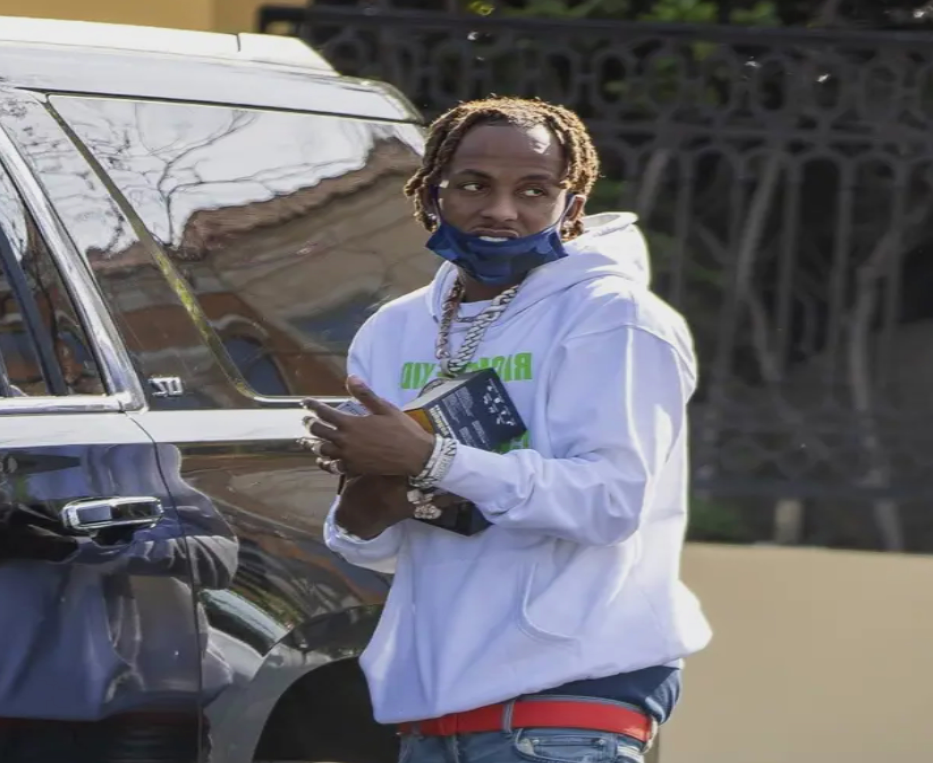mask_weared_incorrect: (406, 97, 597, 288)
